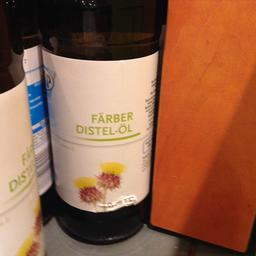oil: (39, 0, 161, 245)
